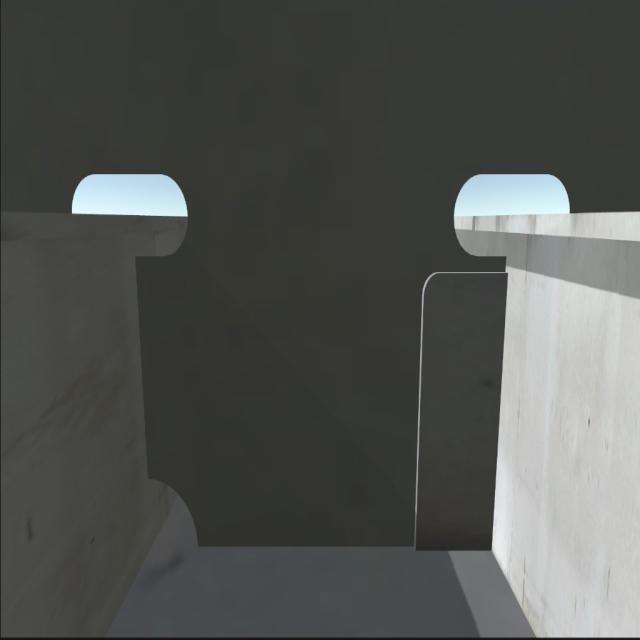fillet_hole: (148, 478, 198, 552)
fillet_yong_jeop_jang: (191, 536, 494, 559)
longi_yong_jeop_jang: (131, 254, 157, 478), (490, 265, 510, 550)
plate_CP05: (417, 267, 507, 542)
